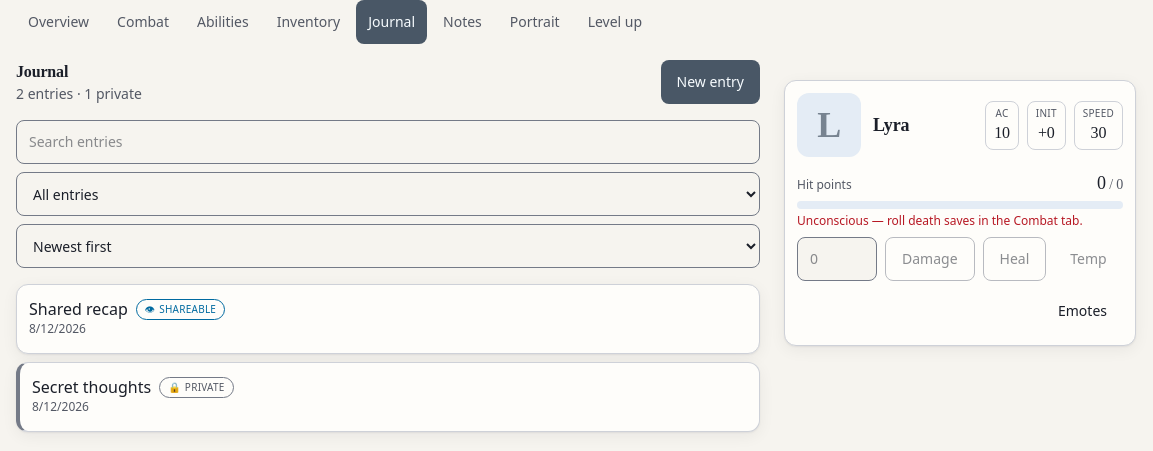
journal privacy › filters to private entries only
Expected: the text "Secret thoughts" is shown, [32,375,151,399]
Select "Private only" in the dropdown named "filter by visibility" at [388, 194], box [16,172,760,216]
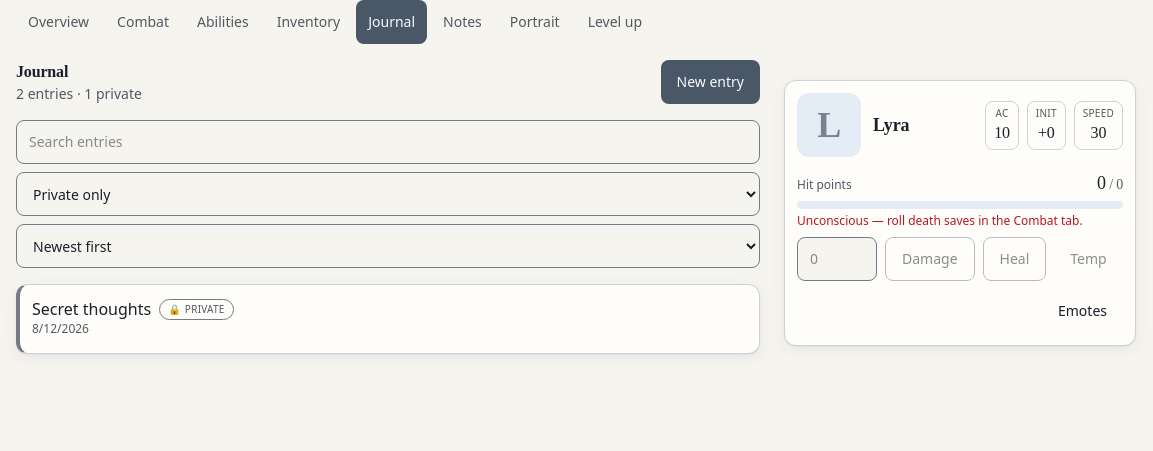
Expected: the text "Secret thoughts" is shown, [32,297,151,321]
Expected: the heading "Shared recap" is gone
